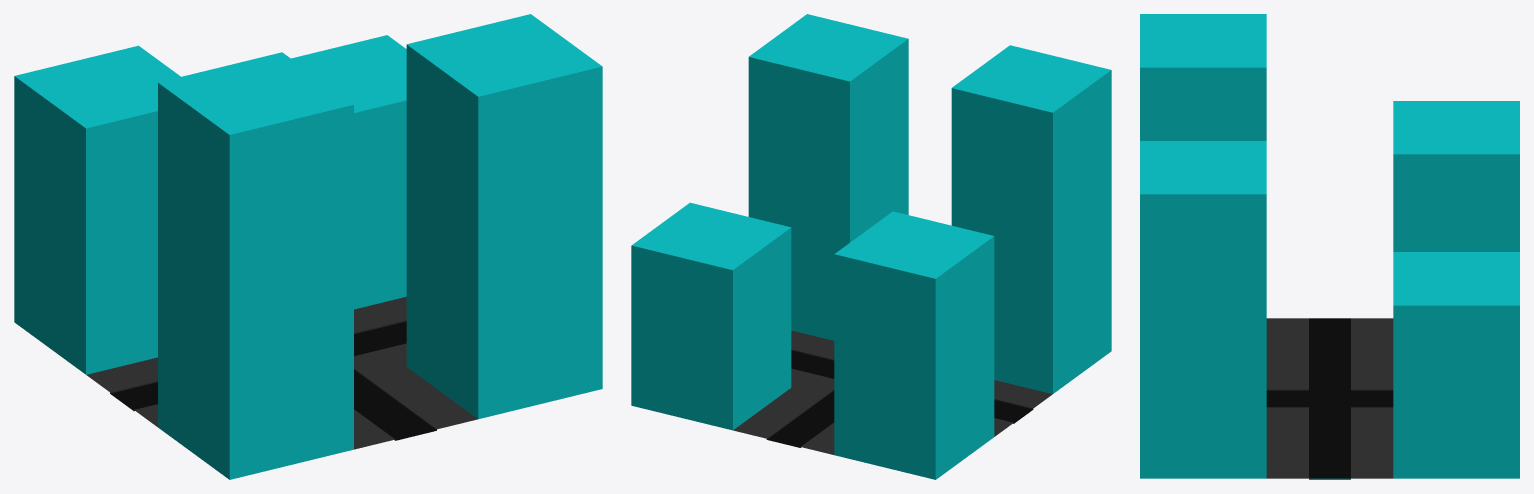
File: city.obj
3 renders of one model, left to right at view 1: azimuth 30°, elevation 25°; view 2: azimuth 150°, elevation 25°; view 3: azimuth 270°, elevation 25°, orthographic. The views are drawn at different scales.
Parts seen in each view (by area): view 1: Grid; view 2: Grid; view 3: Grid.
Boxes of the visible parts, x1=… form: Grid: x1=14, y1=14, x2=602, y2=479; Grid: x1=631, y1=14, x2=1111, y2=479; Grid: x1=1140, y1=14, x2=1519, y2=479.
Size of the model in its own units: 2 by 1.77 by 2.
